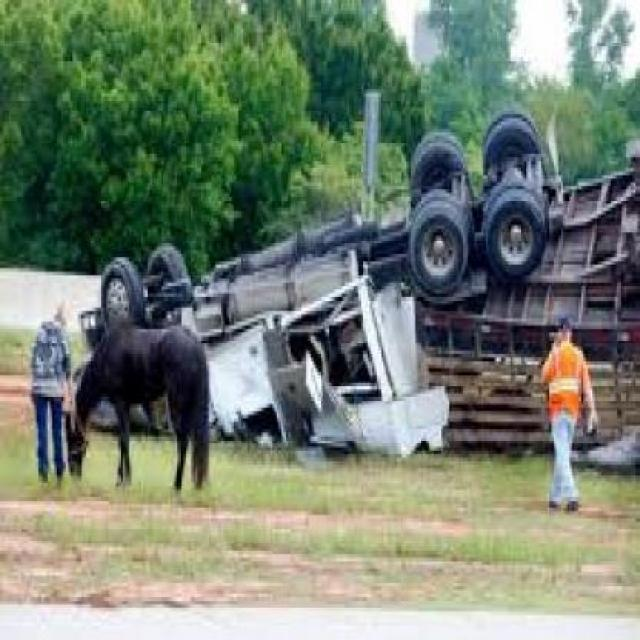accident: (78, 99, 640, 470)
